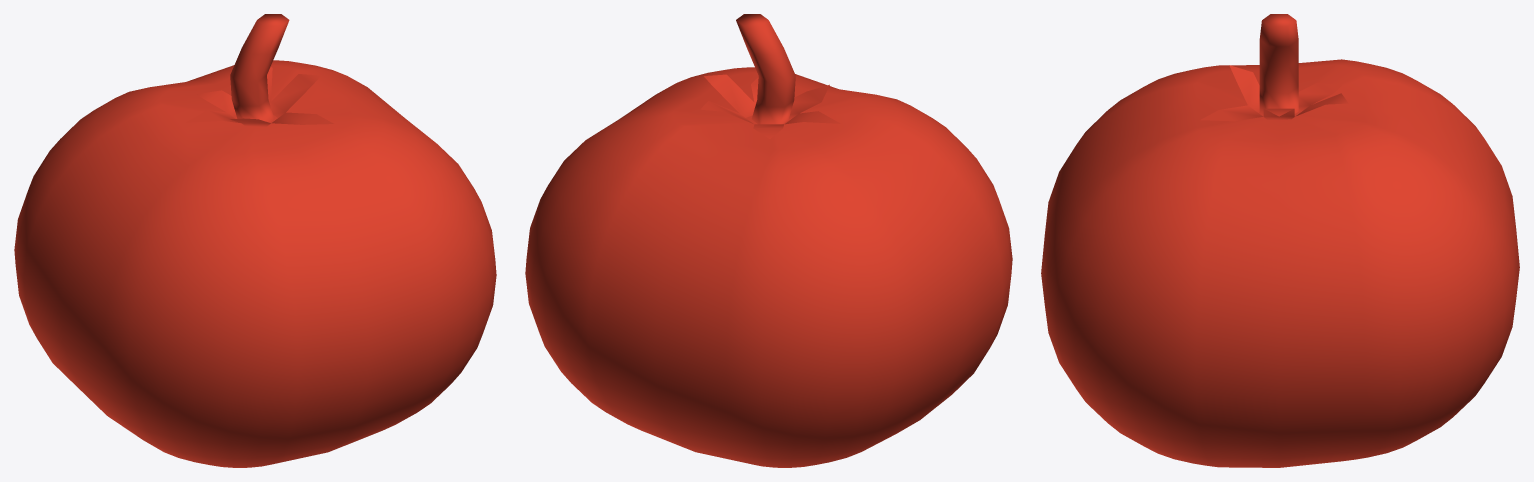
The model's file is Tomato.fbx.
The picture shows the model from 3 angles, left to right: view 1: azimuth 30°, elevation 25°; view 2: azimuth 150°, elevation 25°; view 3: azimuth 270°, elevation 25°; orthographic projection. The views are drawn at different scales.
Visible parts, largest first — view 1: Sphere; view 2: Sphere; view 3: Sphere.
Part boxes in pixels (box(x1,y1,x2,y2)): Sphere: box(14, 14, 496, 467); Sphere: box(525, 14, 1012, 467); Sphere: box(1041, 14, 1519, 467).
Size of the model in its own units: 10.08 by 9.92 by 10.1.
